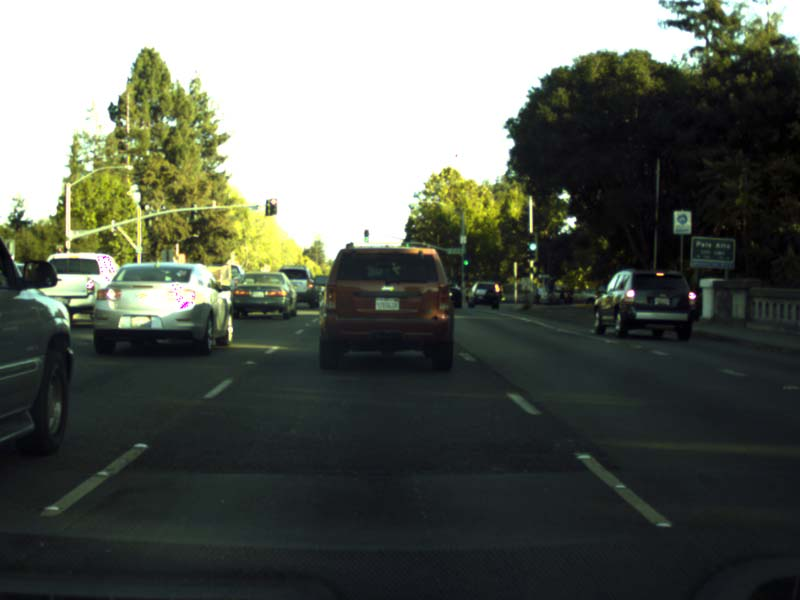Green: (528, 234, 535, 252), (463, 254, 469, 266), (404, 235, 410, 247), (364, 229, 368, 241)
Red: (55, 244, 63, 263), (269, 198, 277, 214)
